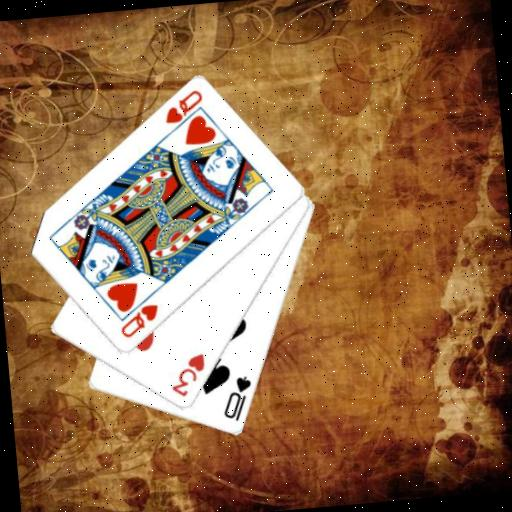10S: (218, 373, 257, 425)
3H: (166, 351, 210, 400)
QH: (160, 87, 208, 138), (115, 301, 162, 341)
